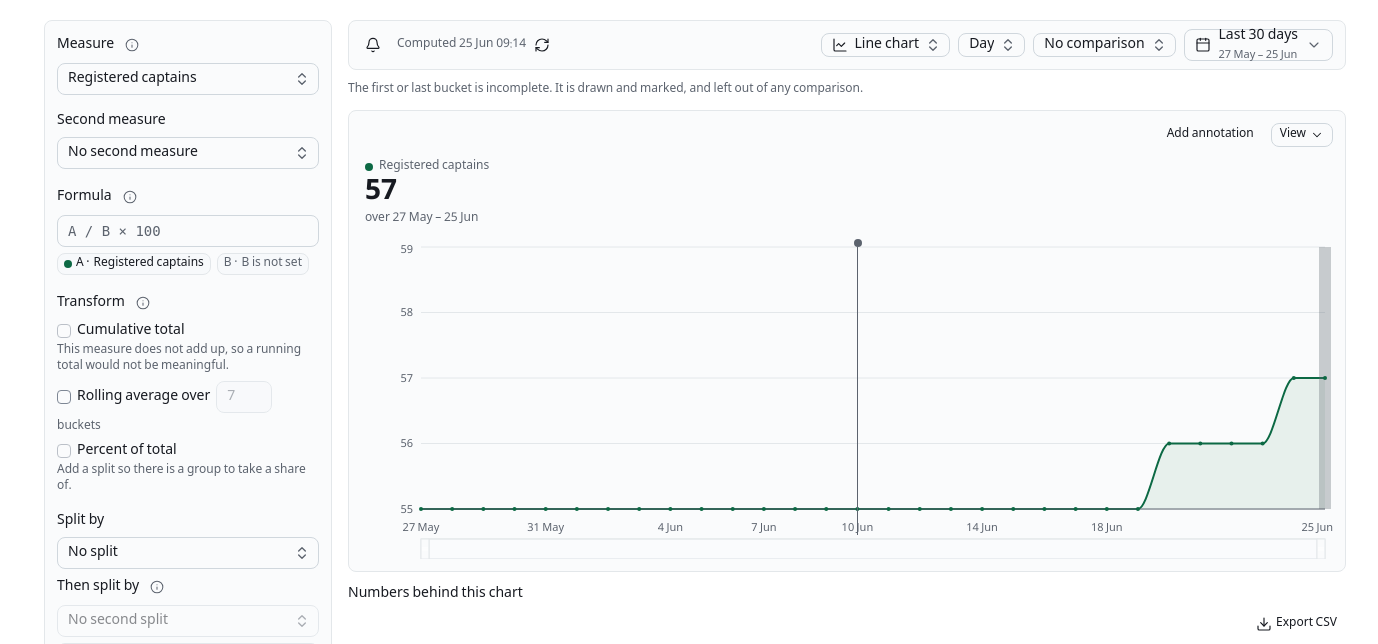
an illegal question is never sent — by editing › runs the legal question once, then requests nothing for the illegal edit
Expected: the text "Computed" is shown, [397, 34, 526, 55]
Click the dropdown named "Chart type" at (886, 45), box [822, 33, 950, 57]
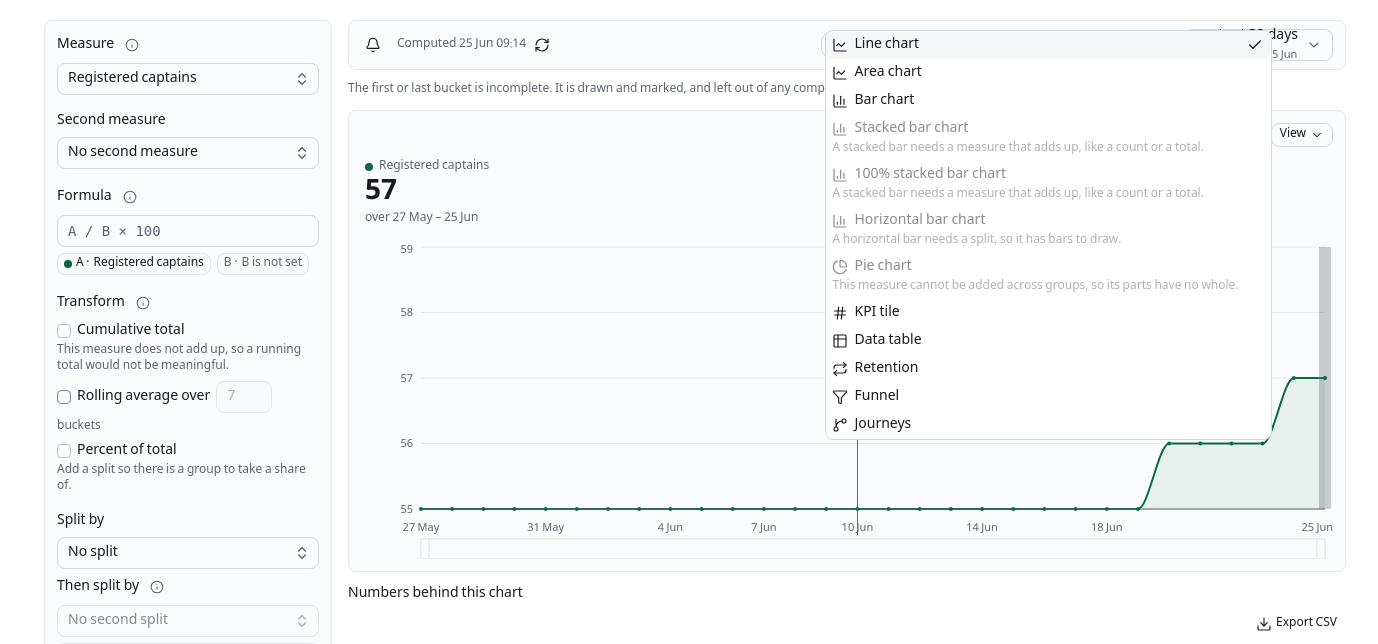
Click the option "Funnel" at (866, 397), box [832, 385, 899, 409]
(page scrolled)
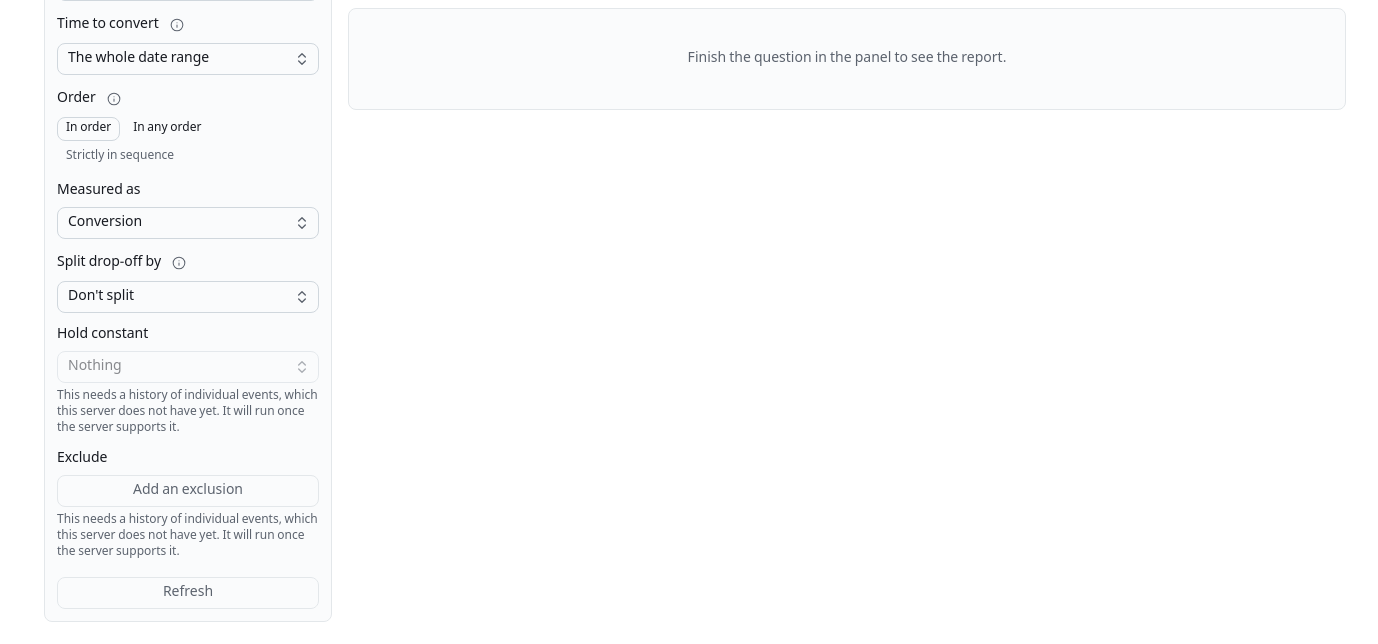
Expected: the button "Refresh" is disabled, [57, 577, 319, 609]
